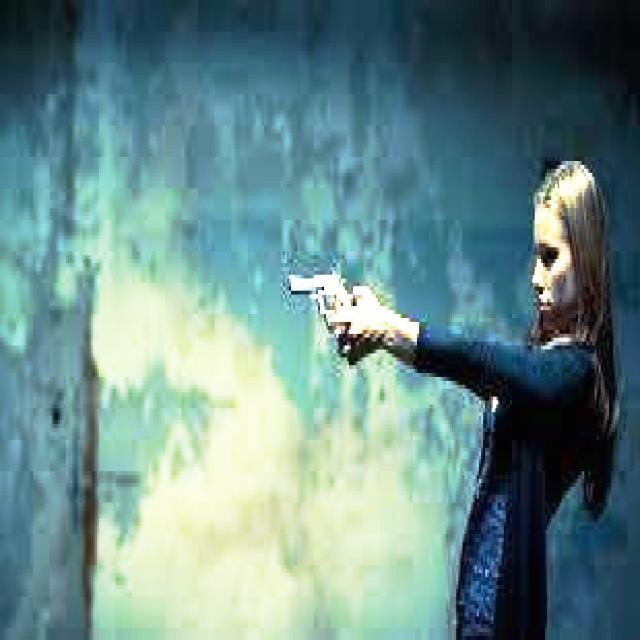Gun: (274, 255, 381, 333)
